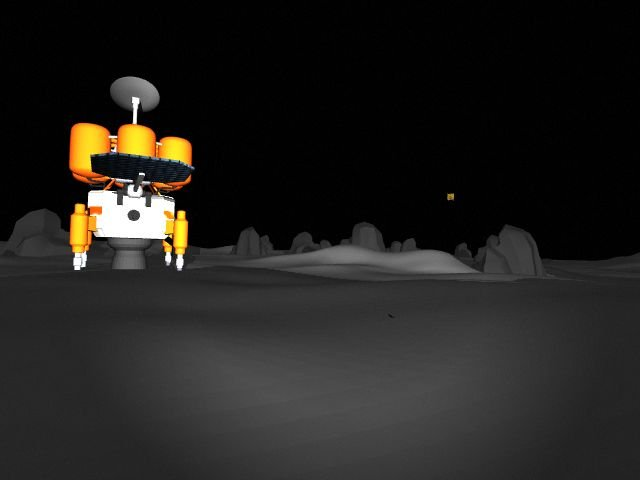homebase: (67, 75, 195, 272)
